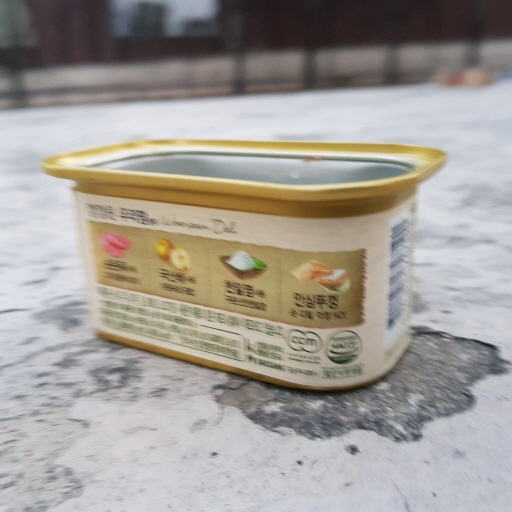Metal_2: (40, 131, 449, 392)
